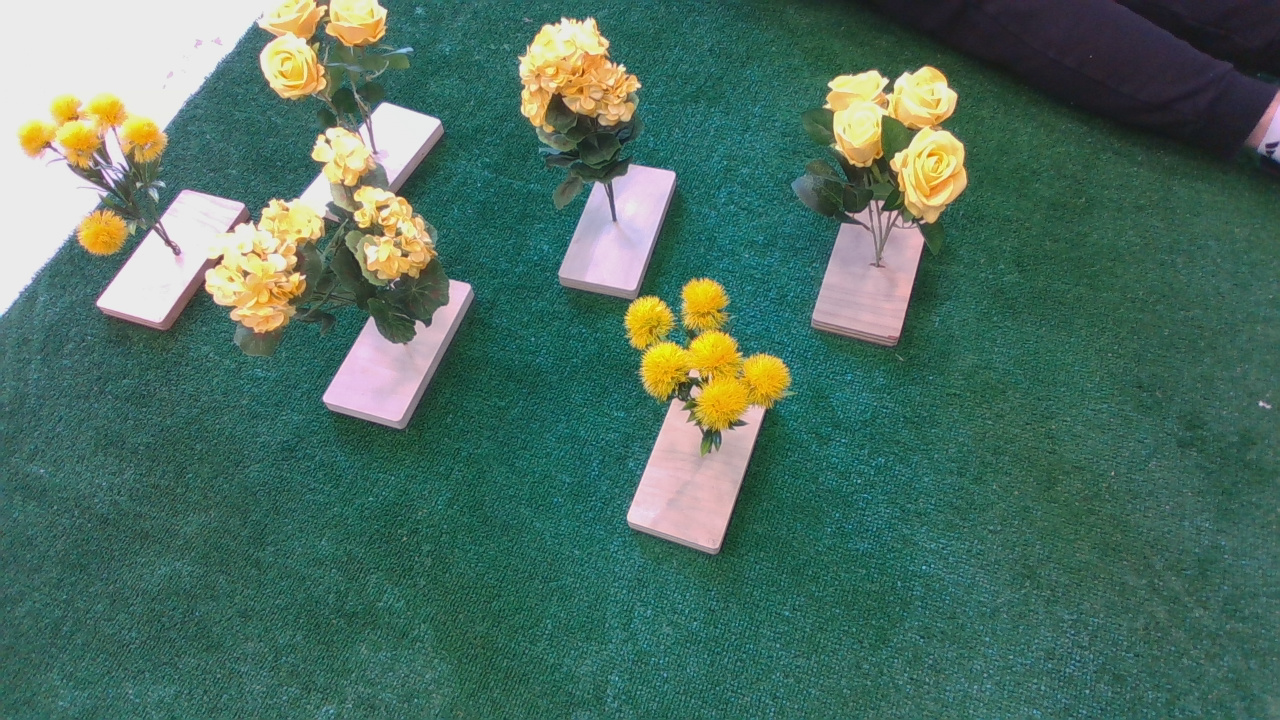dandelion: (621, 281, 813, 439), (16, 97, 180, 263)
geranium: (208, 129, 455, 370), (515, 19, 660, 192)
rose: (779, 65, 981, 250), (248, 2, 403, 118)
